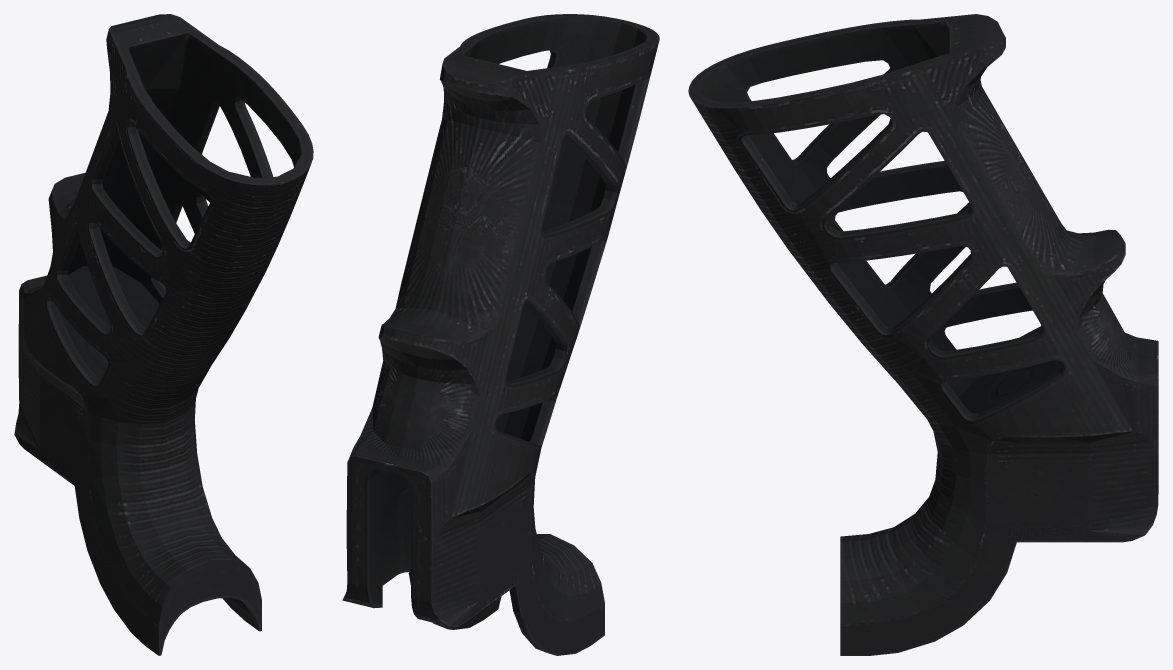
3 renders of one model, left to right at view 1: azimuth 30°, elevation 25°; view 2: azimuth 150°, elevation 25°; view 3: azimuth 270°, elevation 25°, orthographic. The views are drawn at different scales.
Visible parts, largest first — view 1: TW_59db3a1d86f77429e05b4e92_PZ_Import; view 2: TW_59db3a1d86f77429e05b4e92_PZ_Import; view 3: TW_59db3a1d86f77429e05b4e92_PZ_Import.
Part boxes in pixels (x1,y1,x2,y2): TW_59db3a1d86f77429e05b4e92_PZ_Import: (14, 14, 313, 655); TW_59db3a1d86f77429e05b4e92_PZ_Import: (342, 14, 659, 655); TW_59db3a1d86f77429e05b4e92_PZ_Import: (688, 14, 1158, 655).
Bounding box in the file's own units: 0.0163 × 0.0517 × 0.0725.
Materials: 1 (1 with a texture image).
